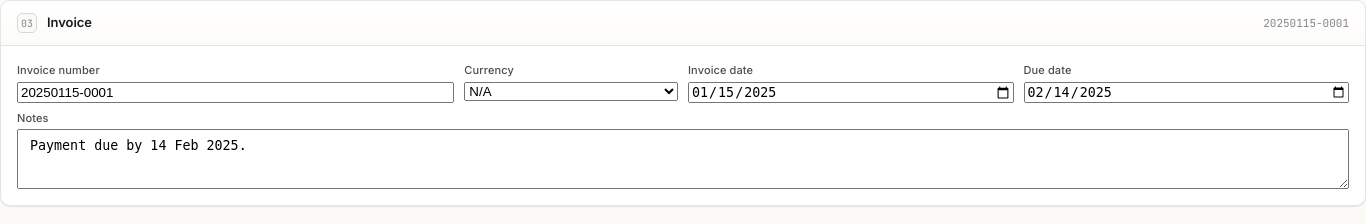
Test case: InvoiceDetailsForm › survives the date being cleared and retyped
Clear the date field labelled "Invoice date" at (851, 92), box [688, 82, 1014, 103]
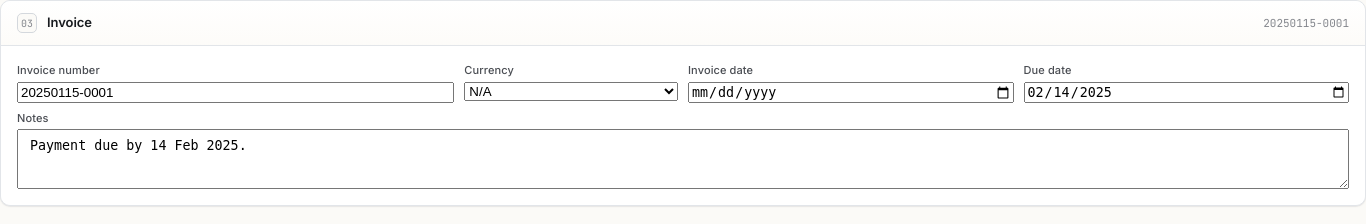
Check: the date field labelled "Due date" holds "2025-02-14", box [1024, 82, 1349, 103]
Type "2025-01-20" into the date field labelled "Invoice date".
click(851, 92); type("2025-01-20")  # box [688, 82, 1014, 103]
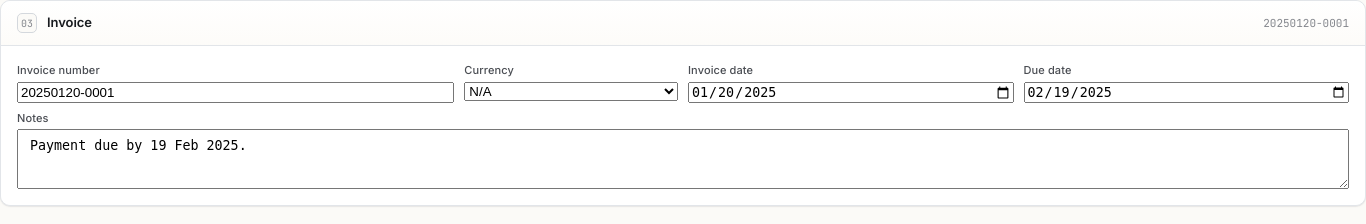
Check: the field labelled "Invoice number" holds "20250120-0001", box [17, 82, 454, 102]
Check: the date field labelled "Due date" holds "2025-02-19", box [1024, 82, 1349, 103]
